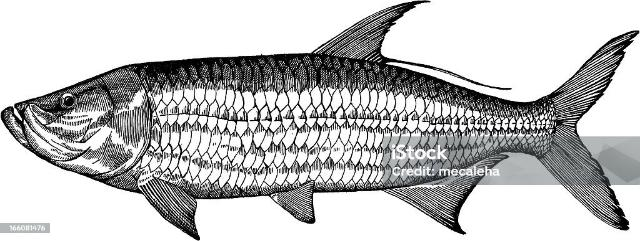Mulut: (1, 88, 44, 154)
Sirip Anal: (386, 155, 512, 237)
Sirip Dada: (138, 172, 206, 241)
Sirip Ekor: (534, 26, 638, 236)
Sirip Perut: (265, 174, 325, 226)
Sirip Punggung: (306, 0, 468, 84)
